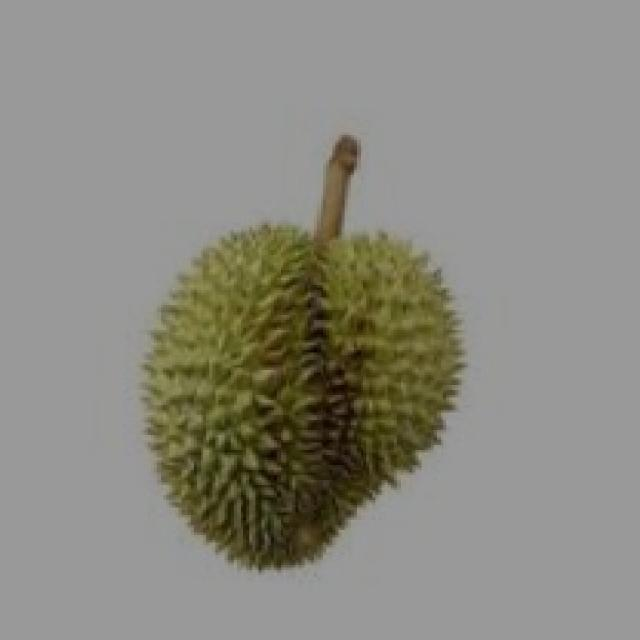fruit: (95, 198, 508, 598)
